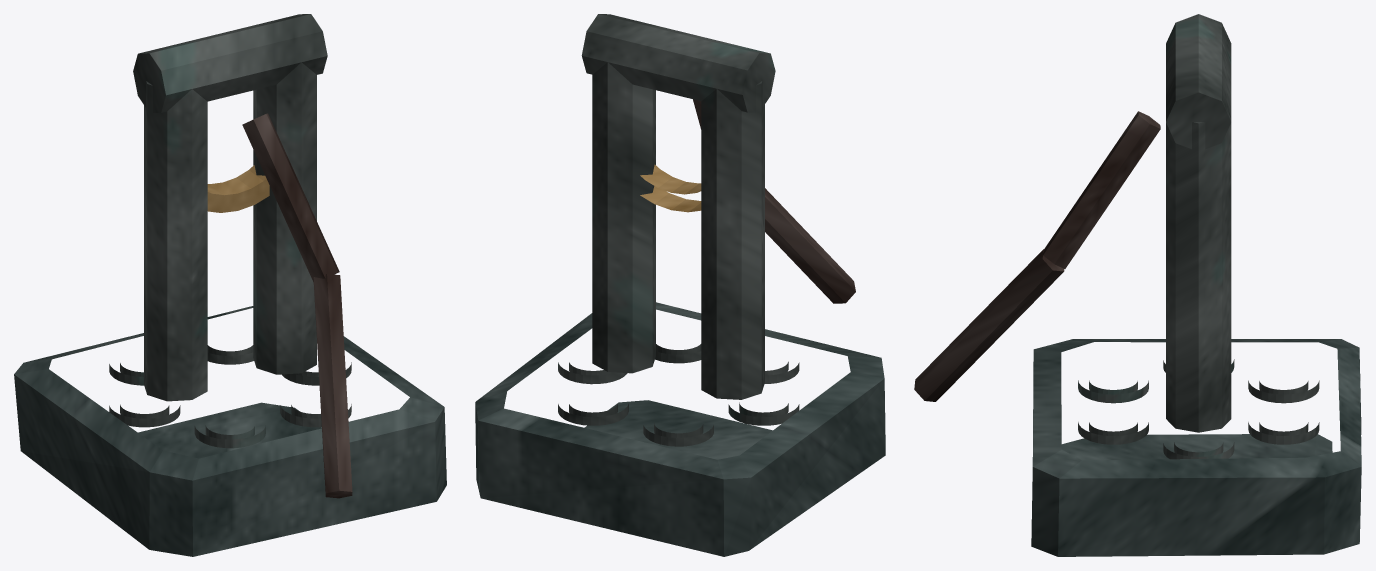
Rendered from 0696_rope_anchor_21.glb.
3 views of the same model, side by side, from view 1: azimuth 30°, elevation 25°; view 2: azimuth 150°, elevation 25°; view 3: azimuth 270°, elevation 25° (orthographic).
Parts seen in each view (by area): view 1: iron, stone_dark, wood_dark, brass; view 2: iron, stone_dark, wood_dark, brass; view 3: stone_dark, iron, wood_dark.
Boxes of the visible parts, x1,y1,x2,y2 form: iron: (109,14,351,448); stone_dark: (14,306,446,556); wood_dark: (242,113,352,498); brass: (207,165,269,212); iron: (558,14,799,446); stone_dark: (475,302,885,556); wood_dark: (693,99,855,303); brass: (640,164,701,212); stone_dark: (1031,339,1361,556); iron: (1078,14,1319,459); wood_dark: (914,111,1160,401).
Size of the model in its own units: 1.22 by 1.78 by 1.64.
4 materials, 4 textured.
